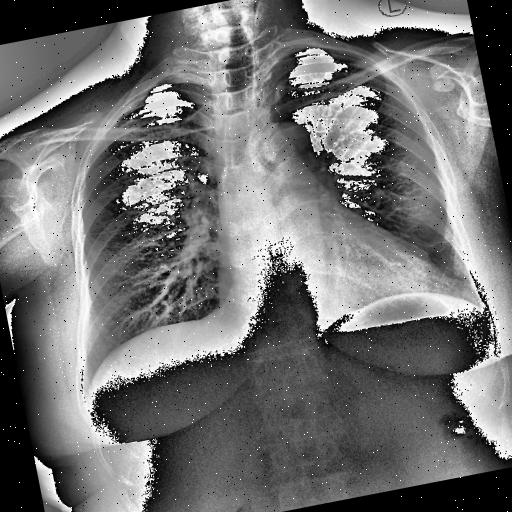0- Aortic enlargement: (200, 106, 348, 218)
13- Pulmonary fibrosis: (410, 218, 460, 260)
5- ILD: (89, 212, 212, 328)
7- Lung Opacity: (416, 228, 458, 256)
